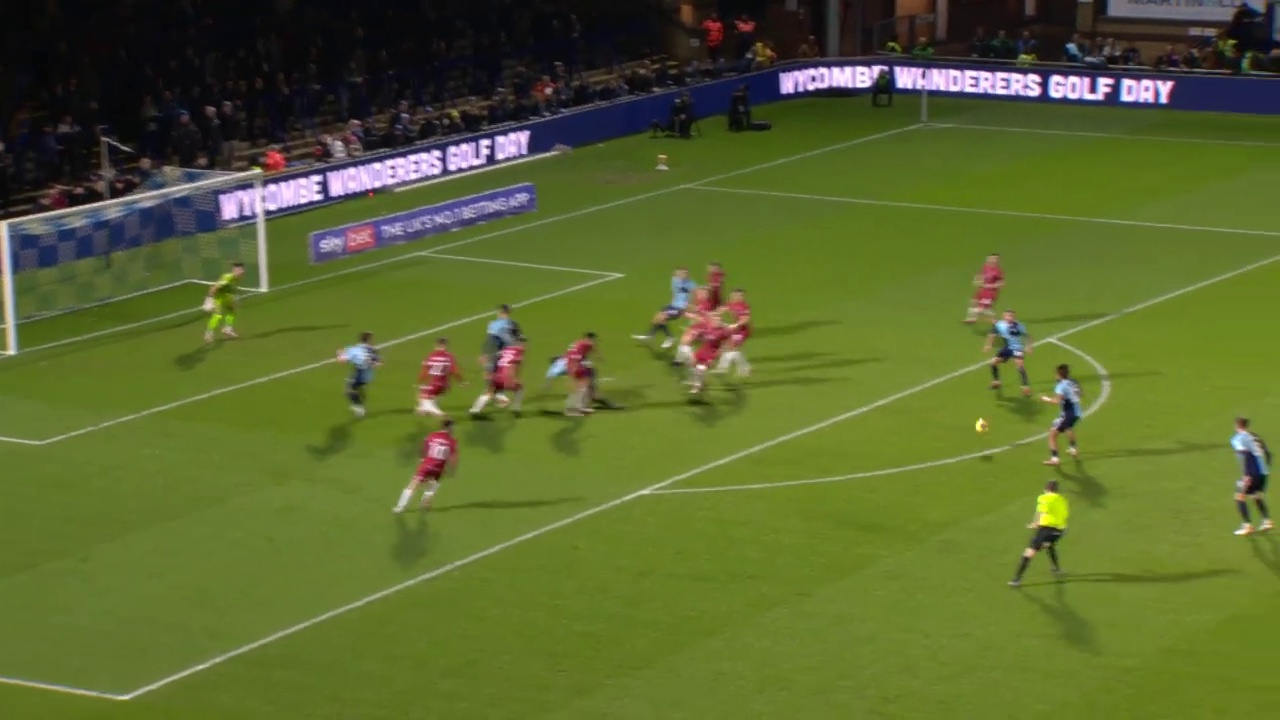ball: (861, 325, 884, 348)
